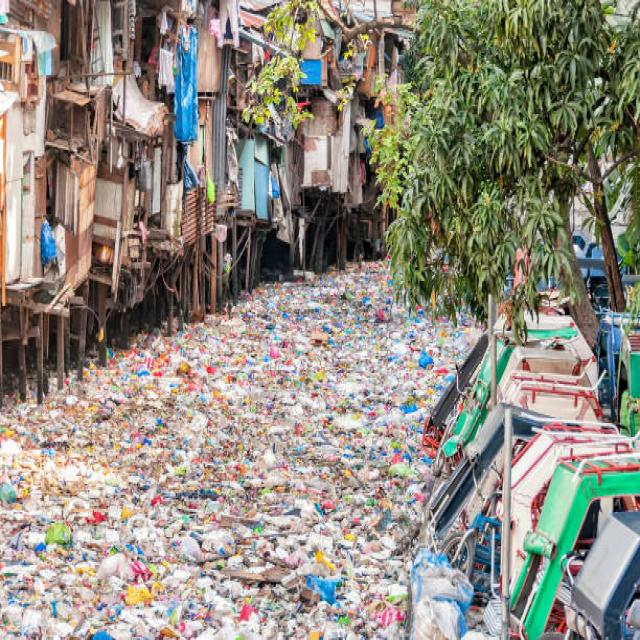plastic: (119, 342, 406, 616)
